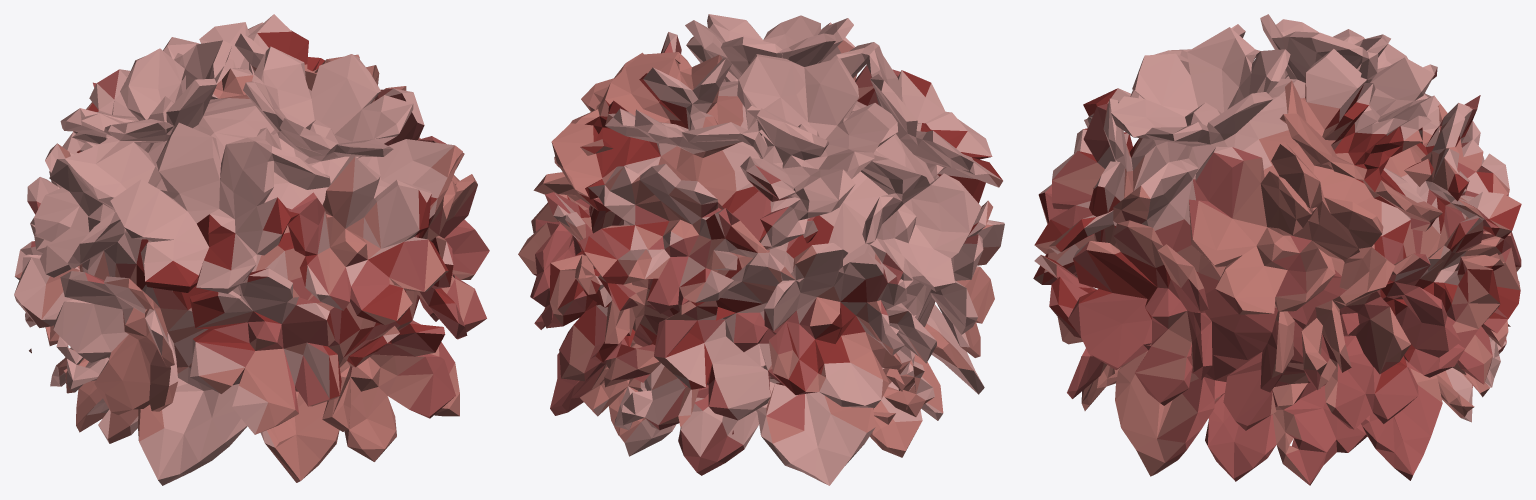
File: flower_pink.glb
3 views of the same model, side by side, from view 1: azimuth 30°, elevation 25°; view 2: azimuth 150°, elevation 25°; view 3: azimuth 270°, elevation 25° (orthographic). The views are drawn at different scales.
Parts seen in each view (by area): view 1: geometry_0; view 2: geometry_0; view 3: geometry_0.
Boxes of the visible parts, x1=… form: geometry_0: x1=14, y1=14, x2=489, y2=485; geometry_0: x1=518, y1=14, x2=1004, y2=485; geometry_0: x1=1033, y1=14, x2=1521, y2=485.
Bounding box in the file's own units: 1.99 × 1.66 × 1.99.
